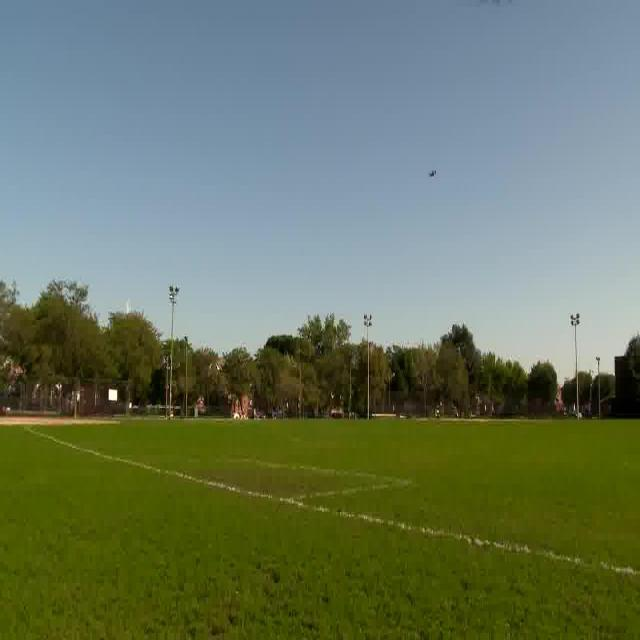drone: (420, 166, 446, 184)
